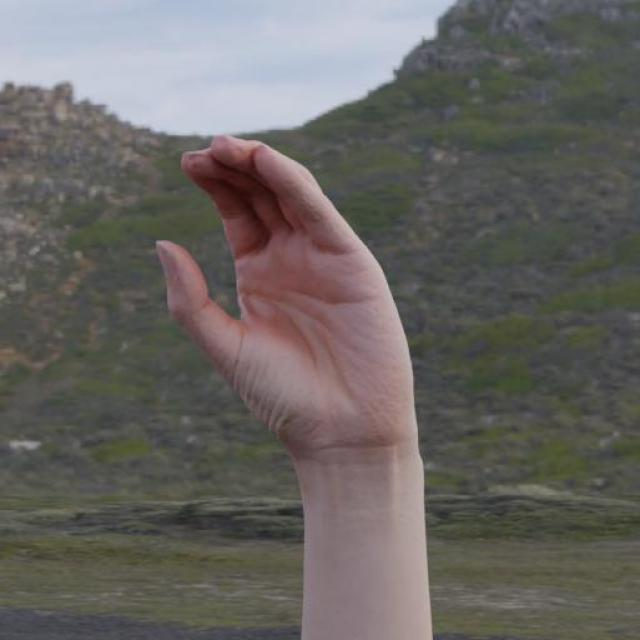C: (99, 110, 474, 486)
